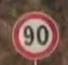limite 90: (10, 10, 60, 61)
